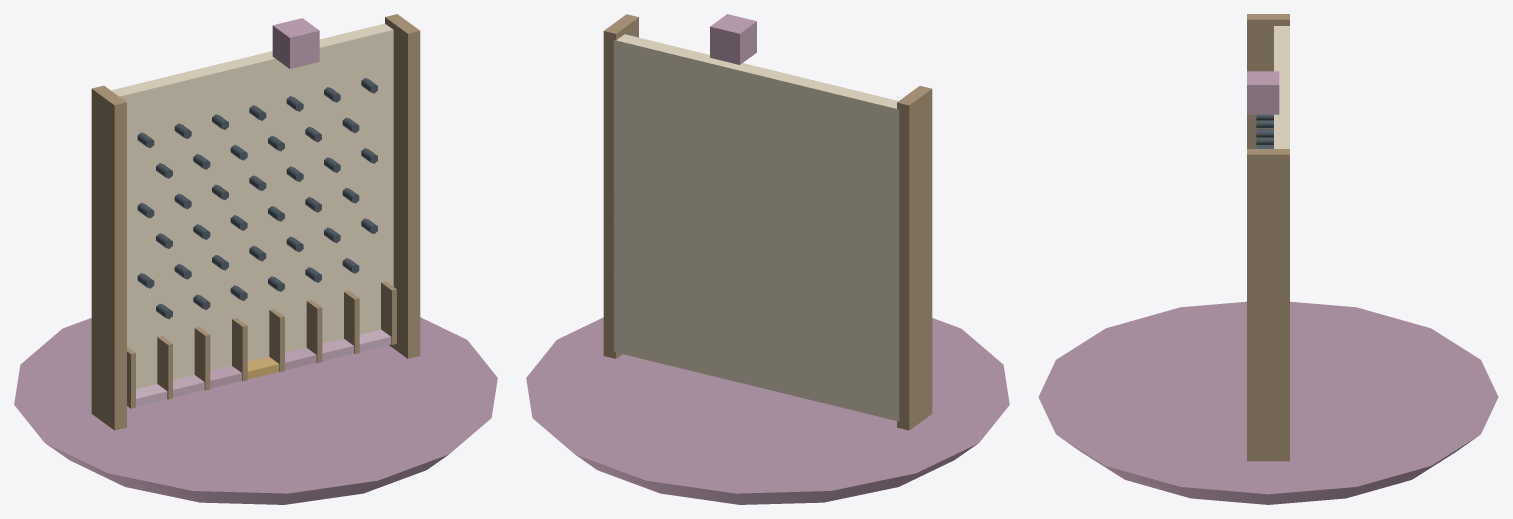
The model's file is party_mg35_plinko_board.glb.
3 views of the same model, side by side, from view 1: azimuth 30°, elevation 25°; view 2: azimuth 150°, elevation 25°; view 3: azimuth 270°, elevation 25° (orthographic). The views are drawn at different scales.
Visible parts, largest first — view 1: _MeshInstance3D_278, _MeshInstance3D_277, _MeshInstance3D_279, _MeshInstance3D_280, _MeshInstance3D_335, _MeshInstance3D_325, _MeshInstance3D_322, _MeshInstance3D_321, _MeshInstance3D_323, _MeshInstance3D_327, _MeshInstance3D_324, _MeshInstance3D_326 (+5 smaller); view 2: _MeshInstance3D_278, _MeshInstance3D_277, _MeshInstance3D_279, _MeshInstance3D_280, _MeshInstance3D_335; view 3: _MeshInstance3D_277, _MeshInstance3D_280, _MeshInstance3D_279, _MeshInstance3D_278, _MeshInstance3D_335.
Part boxes in pixels (box(x1,y1,x2,y2)): _MeshInstance3D_278: box(111, 23, 393, 406); _MeshInstance3D_277: box(14, 317, 497, 504); _MeshInstance3D_279: box(91, 85, 126, 430); _MeshInstance3D_280: box(385, 14, 420, 358); _MeshInstance3D_335: box(272, 18, 319, 68); _MeshInstance3D_325: box(306, 299, 322, 363); _MeshInstance3D_322: box(194, 327, 210, 390); _MeshInstance3D_321: box(157, 336, 172, 399); _MeshInstance3D_323: box(232, 318, 247, 381); _MeshInstance3D_327: box(381, 281, 396, 344); _MeshInstance3D_324: box(269, 309, 284, 372); _MeshInstance3D_326: box(344, 290, 359, 353); _MeshInstance3D_278: box(613, 34, 899, 421); _MeshInstance3D_277: box(526, 317, 1009, 504); _MeshInstance3D_279: box(897, 86, 932, 430); _MeshInstance3D_280: box(603, 14, 638, 358); _MeshInstance3D_335: box(710, 14, 756, 64); _MeshInstance3D_277: box(1038, 301, 1498, 504); _MeshInstance3D_280: box(1247, 149, 1289, 461); _MeshInstance3D_279: box(1247, 14, 1289, 148); _MeshInstance3D_278: box(1274, 26, 1289, 148); _MeshInstance3D_335: box(1247, 71, 1279, 114).
Bounding box in the file's own units: 3.4 × 2.92 × 3.4.
